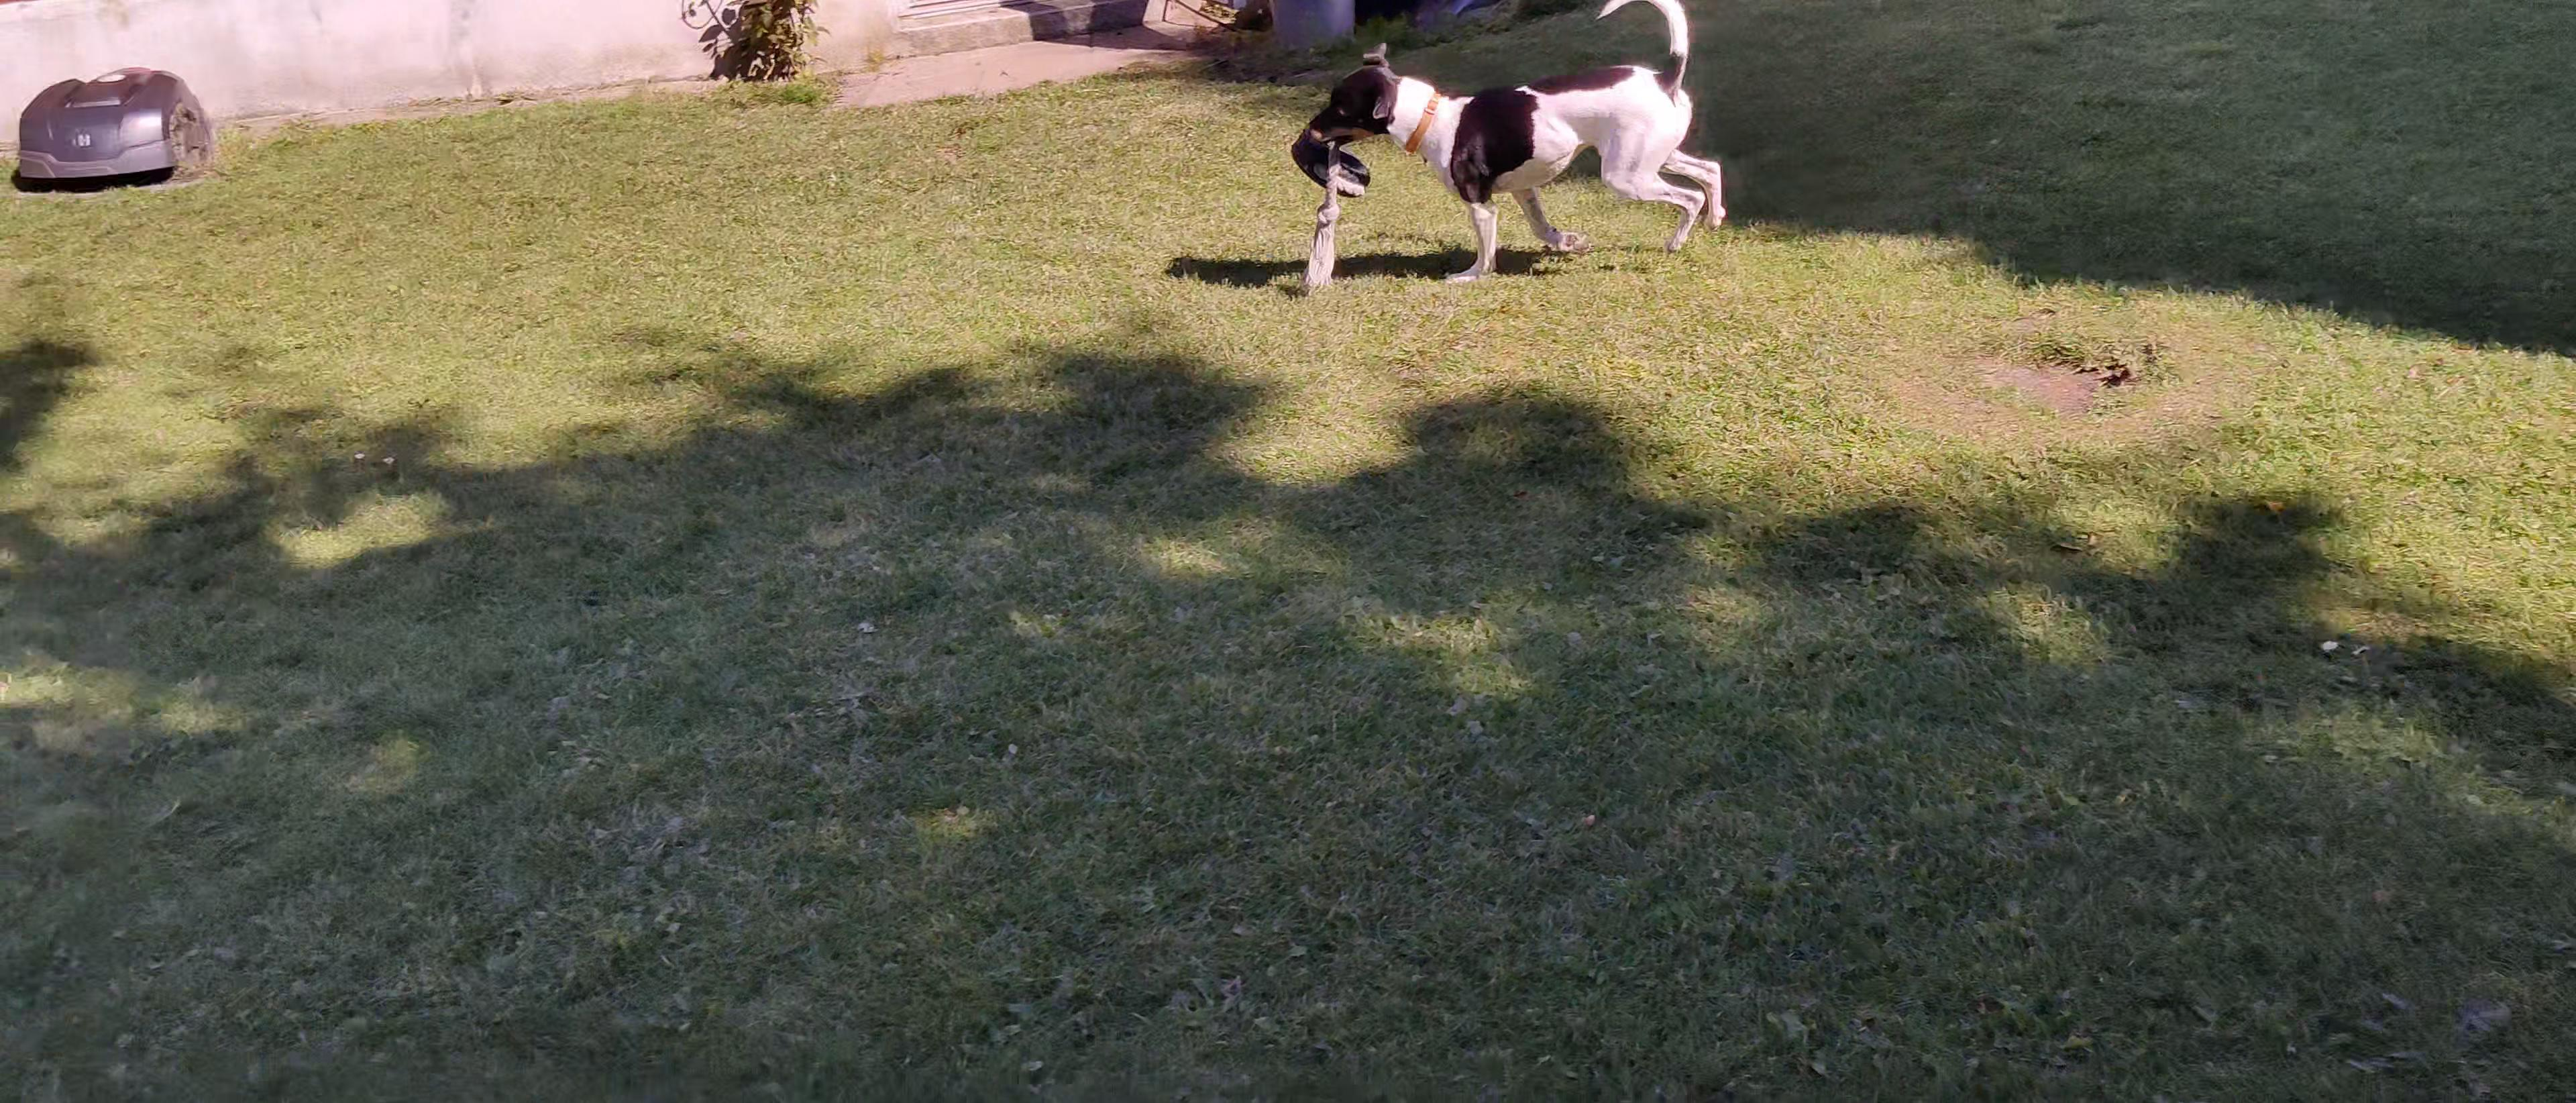Dog: (1303, 0, 1740, 291)
